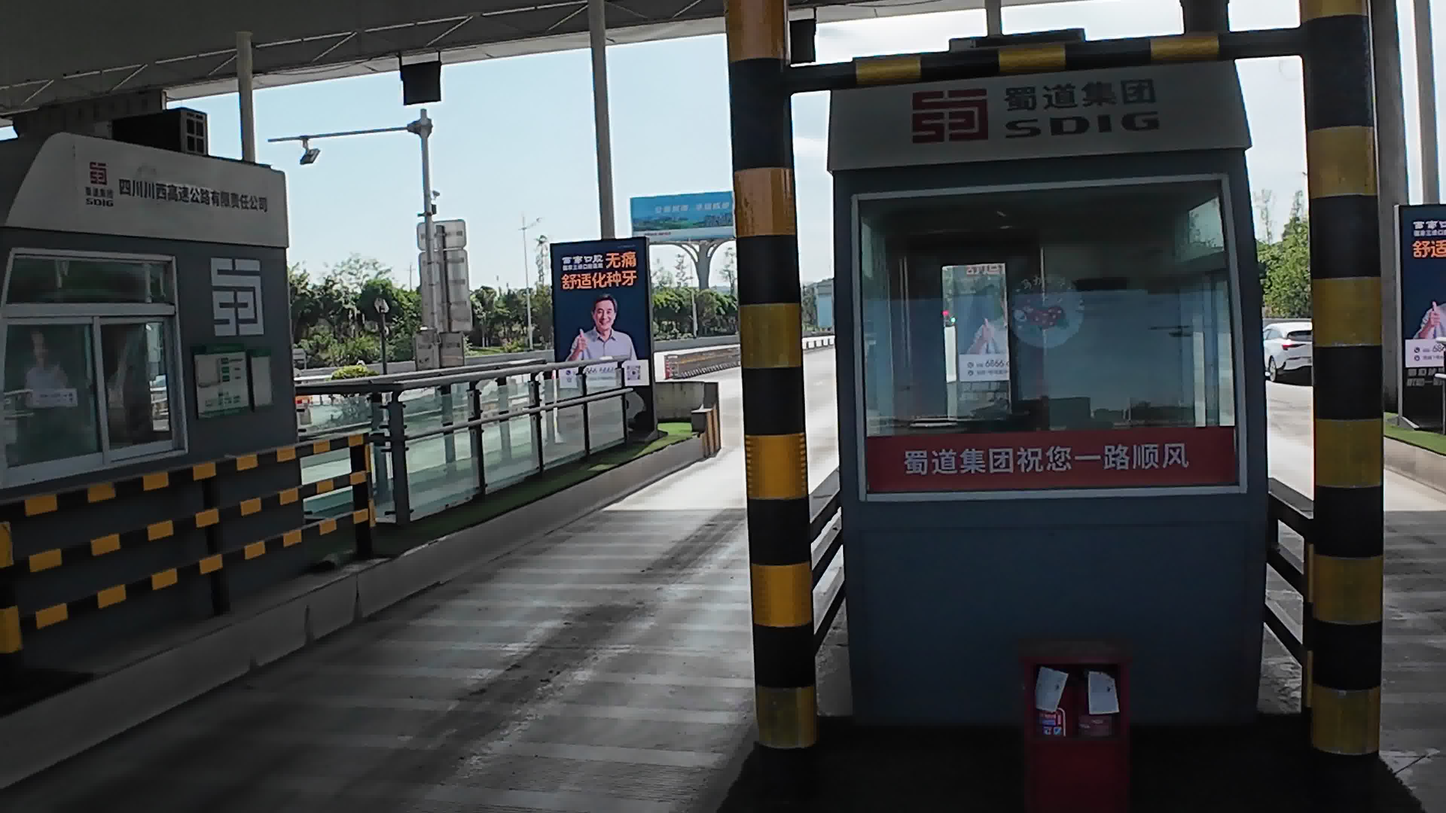fire_box: (1008, 636, 1142, 801)
led_screen: (552, 240, 646, 388)
roadside_plant: (294, 266, 554, 363), (642, 278, 751, 336)
toll_booth: (836, 56, 1285, 730), (0, 120, 314, 702)
warning_sign: (425, 216, 474, 338)
